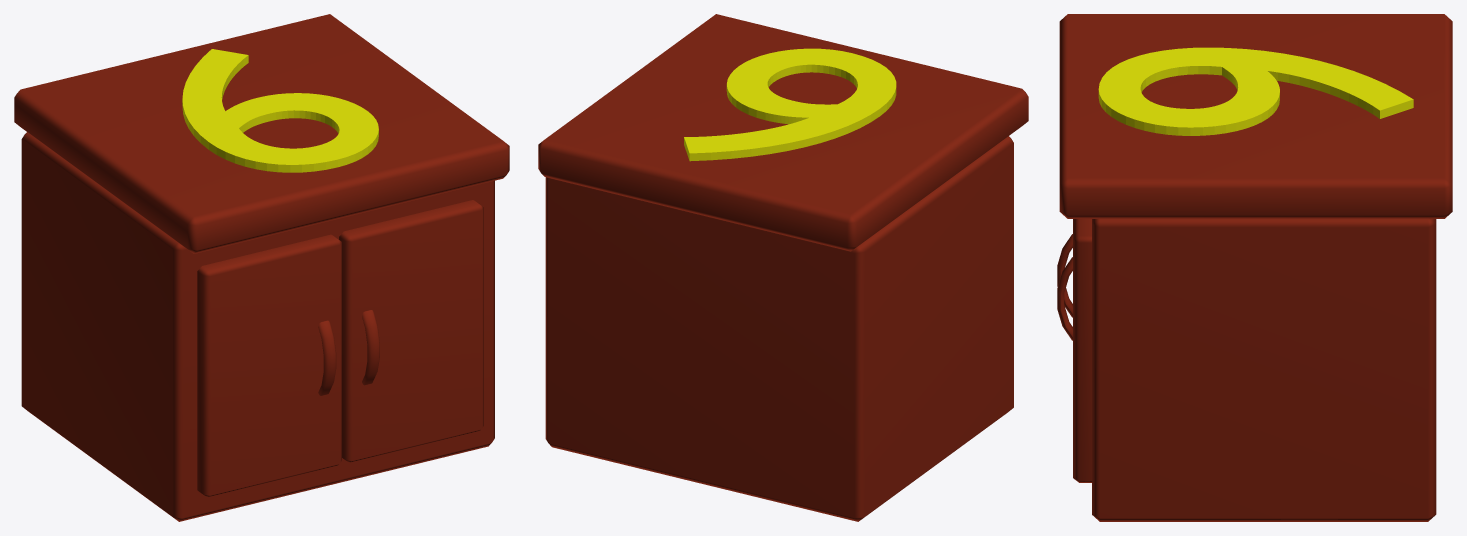
3 renders of one model, left to right at view 1: azimuth 30°, elevation 25°; view 2: azimuth 150°, elevation 25°; view 3: azimuth 270°, elevation 25°, orthographic. The views are drawn at different scales.
Parts seen in each view (by area): view 1: Cube.008, Text.005; view 2: Cube.008, Text.005; view 3: Cube.008, Text.005.
Part boxes in pixels (x1,y1,x2,y2): Cube.008: (14, 14, 509, 521); Text.005: (182, 49, 378, 172); Cube.008: (538, 14, 1028, 521); Text.005: (684, 48, 896, 161); Cube.008: (1057, 14, 1452, 521); Text.005: (1098, 47, 1413, 135).
Size of the model in its own units: 89.87 by 86.4 by 87.83.
